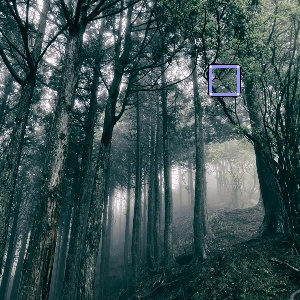square: (208, 63, 241, 98)
